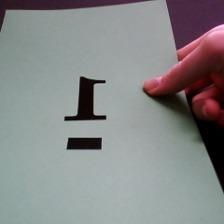green1: (64, 70, 116, 160)
